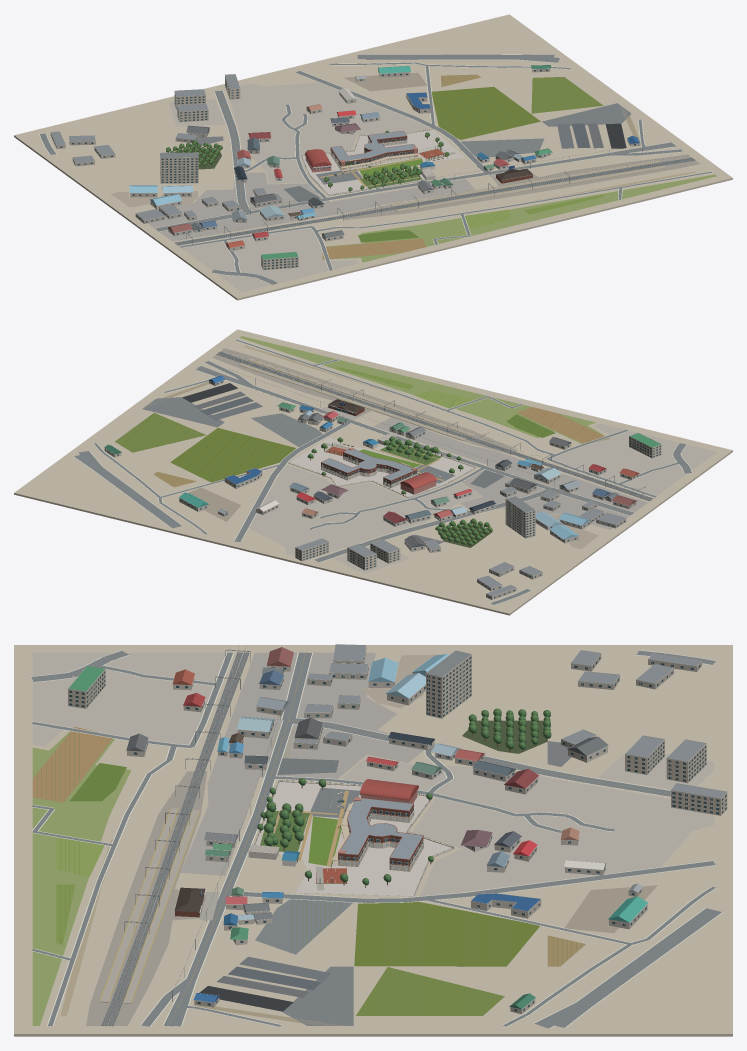
Rendered from dasi-neighborhood.glb.
The picture shows the model from 3 angles, top to bottom: view 1: azimuth 30°, elevation 25°; view 2: azimuth 150°, elevation 25°; view 3: azimuth 270°, elevation 25°; orthographic projection. The views are drawn at different scales.
Visible parts, largest first — view 1: ground_base, parcel_osm_963585648, parcel_osm_963585645, parcel_osm_963585647, parcel_trace_east-field-central, parcel_osm_963585608, parcel_osm_1147618307, ground_floor_campus, parcel_trace_east-field-northeast, parcel_trace_WS06, parcel_trace_east-farm-hardstand, parcel_trace_east-field-covered-rows (+10 smaller); view 2: ground_base, parcel_osm_963585648, parcel_osm_963585647, parcel_osm_963585645, parcel_trace_east-field-central, parcel_osm_963585608, parcel_osm_1147618307, ground_floor_campus, parcel_trace_east-field-northeast, parcel_trace_WS06, parcel_trace_east-field-covered-rows, parcel_trace_east-farm-hardstand (+9 smaller); view 3: ground_base, parcel_osm_963585648, parcel_osm_963585645, parcel_osm_963585647, parcel_trace_east-field-central, parcel_osm_963585608, parcel_osm_1147618307, ground_floor_campus, parcel_trace_east-field-northeast, parcel_trace_WS06, parcel_trace_east-field-covered-rows, parcel_trace_east-farm-hardstand (+33 smaller).
Part boxes in pixels (x1,y1,x2,y2): ground_base: [14, 14, 732, 300]; parcel_osm_963585648: [230, 82, 430, 183]; parcel_osm_963585645: [135, 172, 475, 241]; parcel_osm_963585647: [182, 225, 358, 291]; parcel_trace_east-field-central: [432, 87, 540, 139]; parcel_osm_963585608: [326, 174, 716, 262]; parcel_osm_1147618307: [338, 154, 699, 219]; ground_floor_campus: [302, 129, 465, 195]; parcel_trace_east-field-northeast: [531, 77, 603, 113]; parcel_trace_WS06: [322, 238, 425, 259]; parcel_trace_east-farm-hardstand: [542, 103, 630, 126]; parcel_trace_east-field-covered-rows: [461, 138, 544, 156]; ground_base: [14, 329, 732, 615]; parcel_osm_963585648: [249, 464, 481, 555]; parcel_osm_963585647: [547, 423, 716, 495]; parcel_osm_963585645: [373, 417, 647, 529]; parcel_trace_east-field-central: [170, 428, 295, 482]; parcel_osm_963585608: [240, 336, 604, 443]; parcel_osm_1147618307: [212, 348, 517, 454]; ground_floor_campus: [289, 437, 474, 497]; parcel_trace_east-field-northeast: [115, 413, 206, 452]; parcel_trace_WS06: [517, 407, 609, 443]; parcel_trace_east-field-covered-rows: [251, 413, 322, 446]; parcel_trace_east-farm-hardstand: [142, 397, 224, 427]; ground_base: [14, 645, 732, 1036]; parcel_osm_963585648: [336, 755, 714, 896]; parcel_osm_963585645: [180, 652, 423, 875]; parcel_osm_963585647: [32, 652, 225, 746]; parcel_trace_east-field-central: [354, 901, 539, 966]; parcel_osm_963585608: [32, 731, 131, 1025]; parcel_osm_1147618307: [86, 771, 207, 1025]; ground_floor_campus: [255, 782, 452, 896]; parcel_trace_east-field-northeast: [356, 967, 504, 1015]; parcel_trace_WS06: [32, 727, 112, 802]; parcel_trace_east-field-covered-rows: [255, 899, 352, 954]; parcel_trace_east-farm-hardstand: [282, 966, 353, 1025].
Size of what is drawn, in the model's own units: 594 by 31.78 by 464.
Materials: 260 (1 with a texture image).
